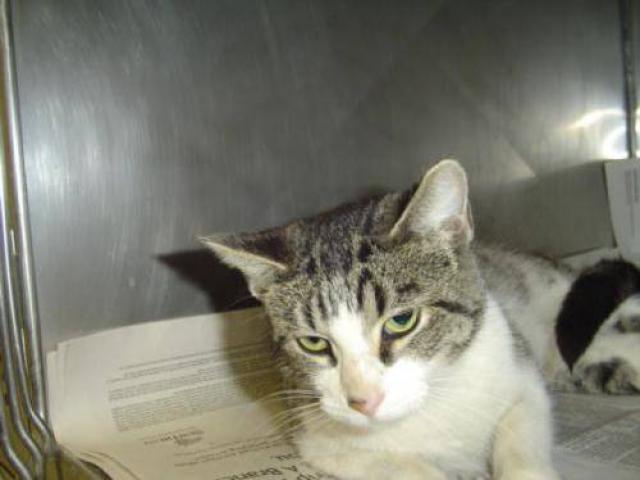cat: (186, 150, 631, 478)
